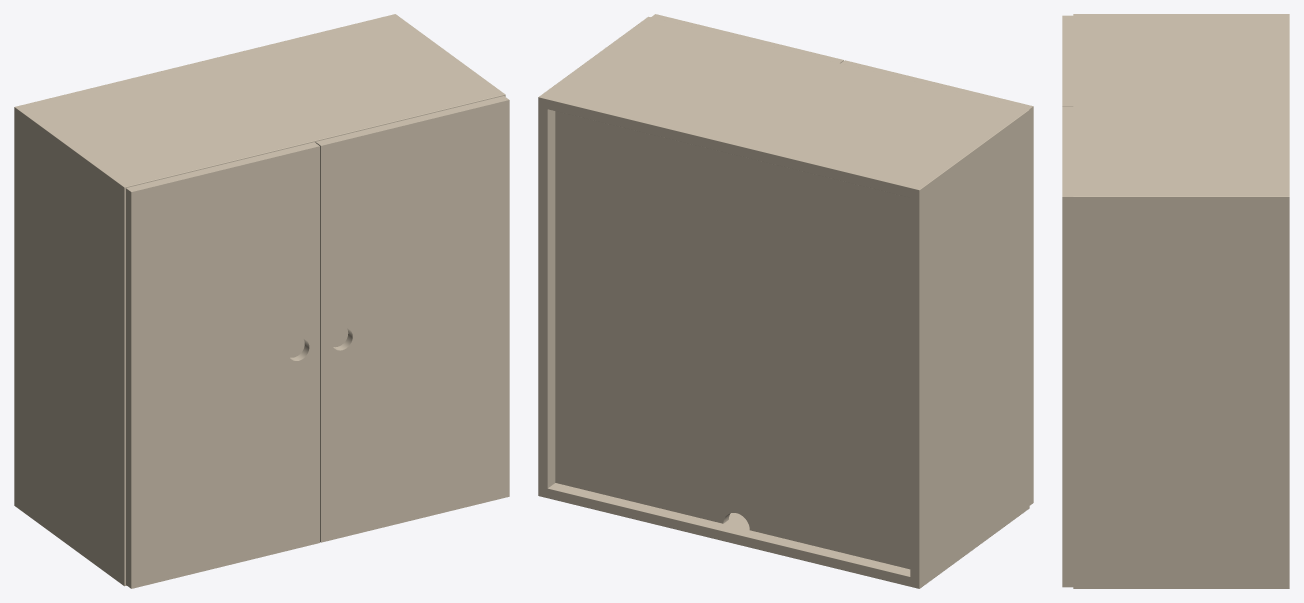
Rendered from MOD-2X2-DD-B.AP-AR.glb.
3 renders of one model, left to right at view 1: azimuth 30°, elevation 25°; view 2: azimuth 150°, elevation 25°; view 3: azimuth 270°, elevation 25°, orthographic.
Bounding box in the file's own units: 720 × 720 × 378.
